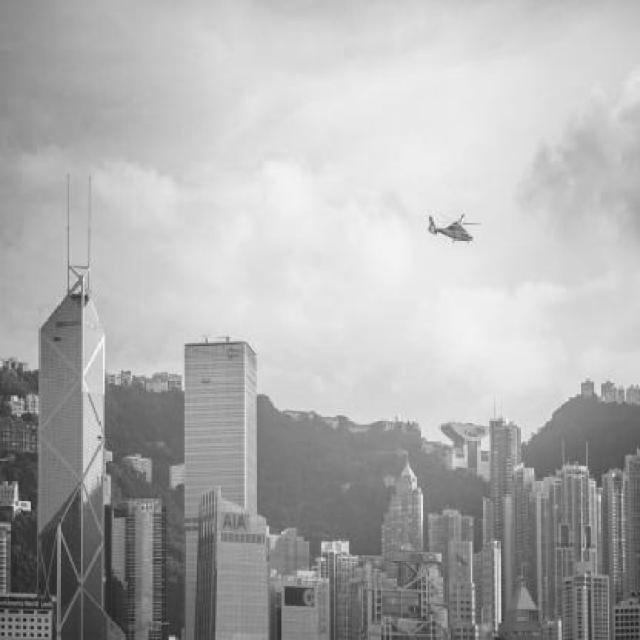helikopter: (415, 206, 480, 245)
